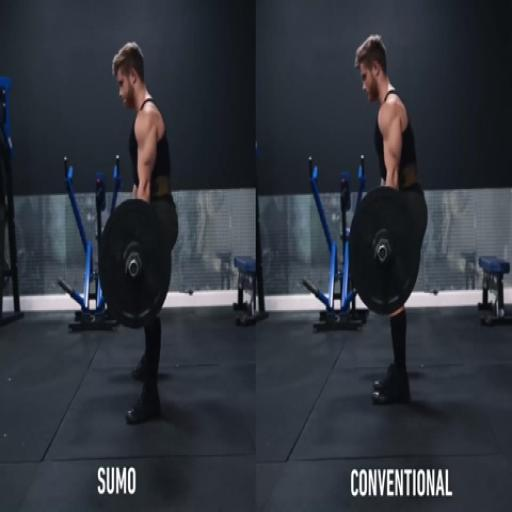exercise: (349, 33, 430, 408), (104, 40, 180, 428)
